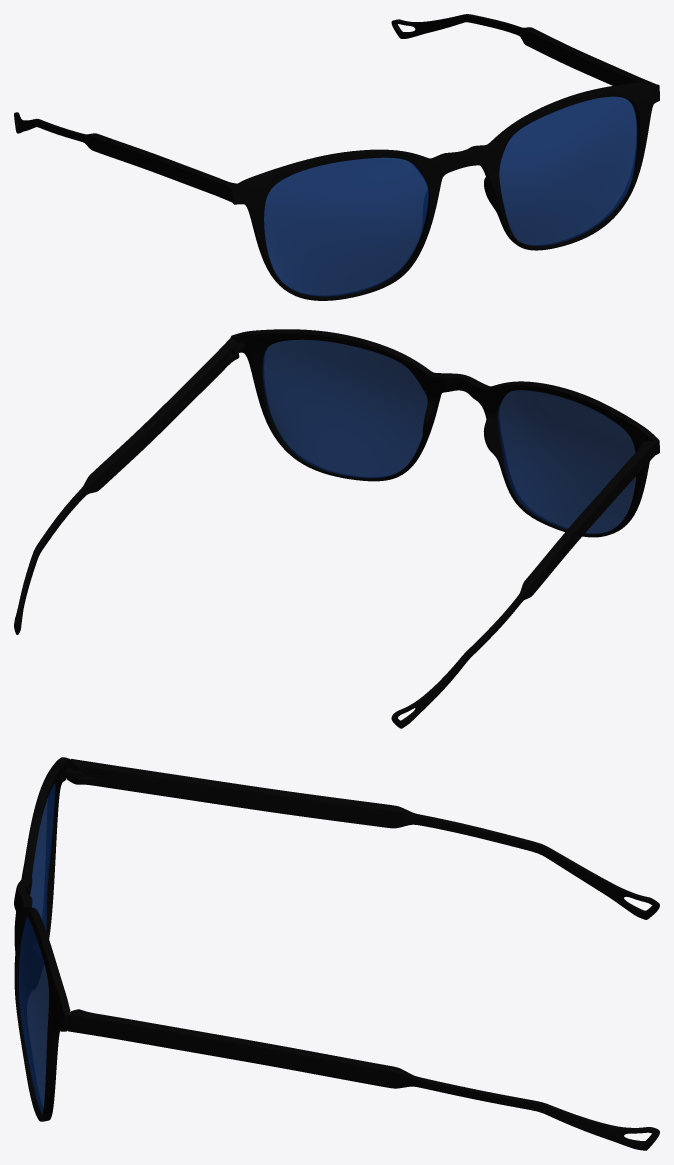
Rendered from Sunglasses.fbx.
The picture shows the model from 3 angles, top to bottom: view 1: azimuth 30°, elevation 25°; view 2: azimuth 150°, elevation 25°; view 3: azimuth 270°, elevation 25°; orthographic projection. The views are drawn at different scales.
Visible parts, largest first — view 1: Lenses.001, Frame, Hangers2; view 2: Lenses.001, Frame, Hangers2; view 3: Hangers2, Frame, Lenses.001.
Part boxes in pixels (x1=…): Lenses.001: x1=264, y1=96, x2=637, y2=296; Frame: x1=230, y1=82, x2=659, y2=300; Hangers2: x1=14, y1=14, x2=654, y2=202; Lenses.001: x1=262, y1=339, x2=635, y2=534; Frame: x1=230, y1=329, x2=659, y2=537; Hangers2: x1=14, y1=338, x2=655, y2=728; Hangers2: x1=67, y1=759, x2=659, y2=1150; Frame: x1=14, y1=757, x2=82, y2=1121; Lenses.001: x1=19, y1=783, x2=55, y2=1113.
Size of the model in its own units: 15.34 by 4.75 by 15.75.
